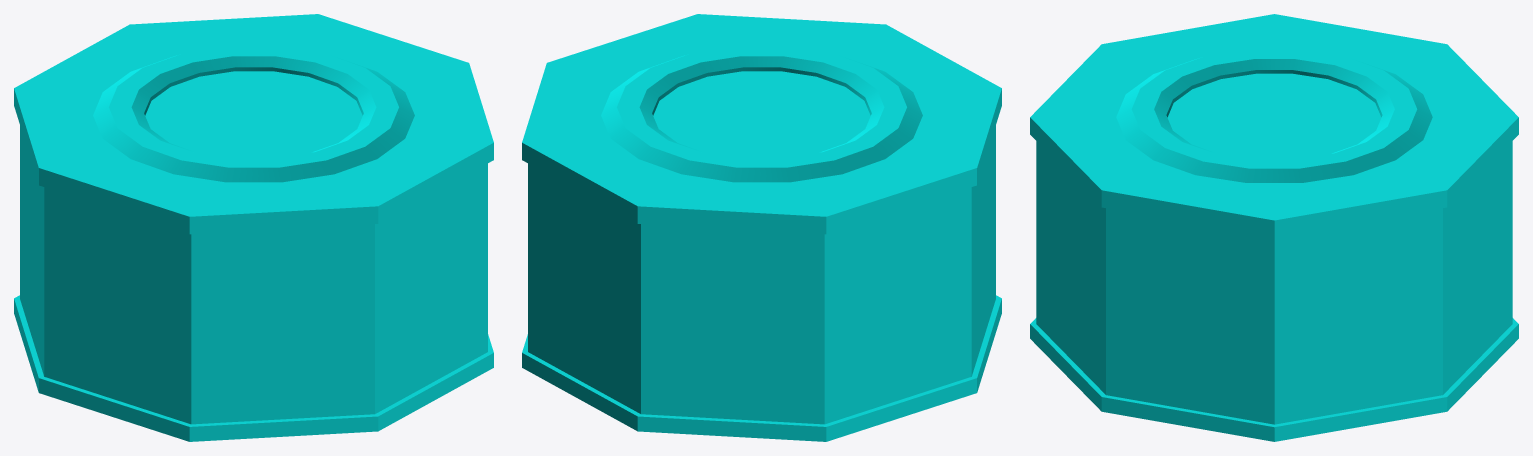
File: respawn_platform_r000.fbx
3 views of the same model, side by side, from view 1: azimuth 30°, elevation 25°; view 2: azimuth 150°, elevation 25°; view 3: azimuth 270°, elevation 25° (orthographic).
Visible parts, largest first — view 1: spawn_point, polySurface7, Spawngate06, Spawngate07; view 2: spawn_point, polySurface7, Spawngate06, Spawngate07; view 3: spawn_point, polySurface7, Spawngate07, Spawngate06.
Part boxes in pixels (x1,y1,x2,y2): spawn_point: (14, 14, 493, 441); polySurface7: (93, 46, 414, 182); Spawngate06: (195, 71, 362, 152); Spawngate07: (145, 78, 310, 158); spawn_point: (522, 14, 1001, 441); polySurface7: (601, 46, 922, 182); Spawngate06: (653, 71, 813, 154); Spawngate07: (710, 75, 870, 158); spawn_point: (1030, 14, 1518, 441); polySurface7: (1116, 49, 1432, 182); Spawngate07: (1167, 73, 1380, 120); Spawngate06: (1169, 115, 1381, 159).
Bounding box in the file's own units: 30 × 15.54 × 30.
